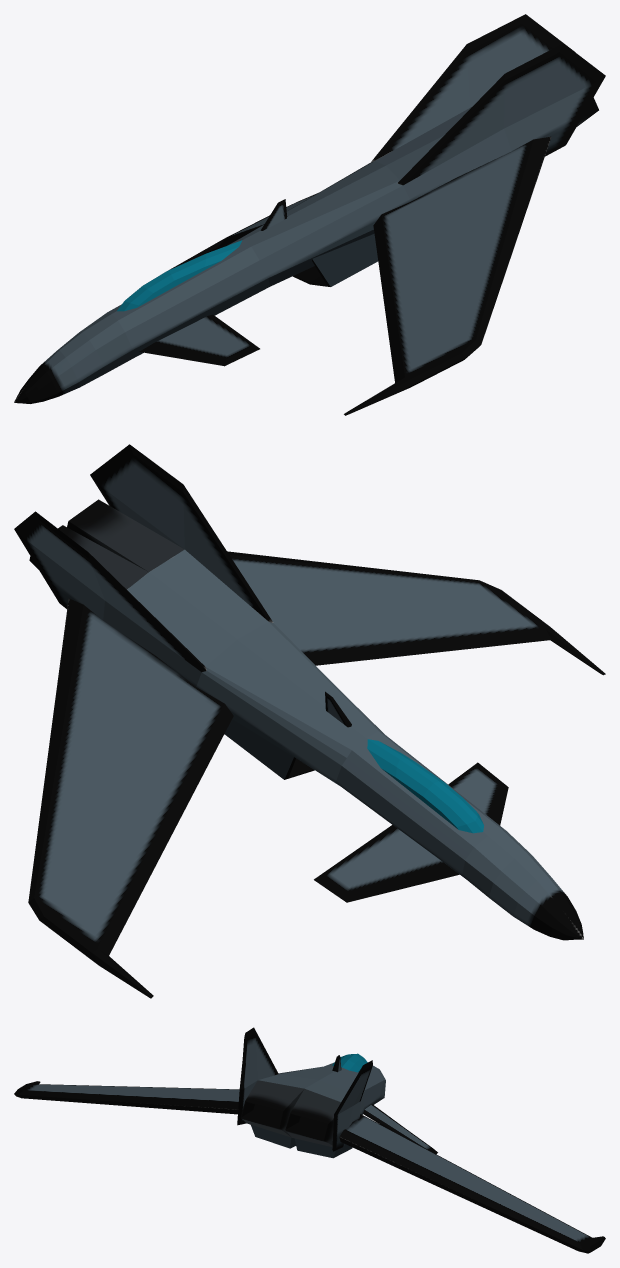
File: ArenaMiscStarfighter.fbx
The picture shows the model from 3 angles, top to bottom: view 1: azimuth 30°, elevation 25°; view 2: azimuth 150°, elevation 25°; view 3: azimuth 270°, elevation 25°; orthographic projection. The views are drawn at different scales.
Parts seen in each view (by area): view 1: Plane; view 2: Plane; view 3: Plane.
Part boxes in pixels (x1,y1,x2,y2): Plane: (14, 14, 605, 415); Plane: (14, 444, 605, 998); Plane: (14, 1027, 605, 1253).
Size of the model in its own units: 1565 by 880 by 1560.
Materials: 1 (1 with a texture image).
